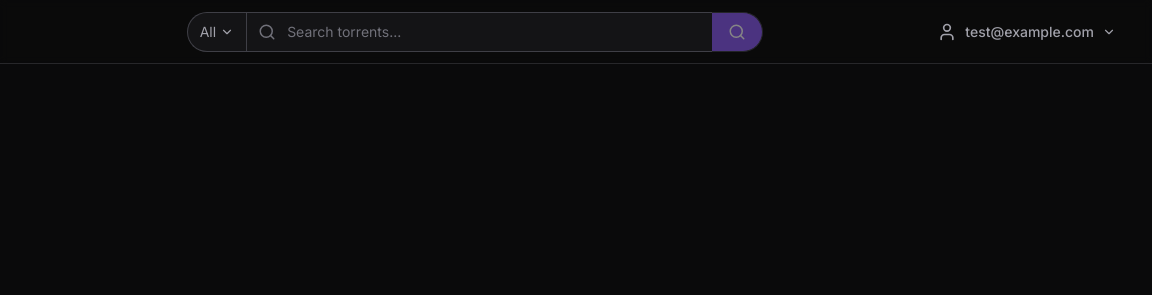
it: Header Component › Logged In State - User Dropdown › should close dropdown when clicking outside
The width and height of the screenshot is (1152, 295).
Click the button with test id "user-dropdown-trigger".
click(1027, 32)  # box [925,14,1128,50]
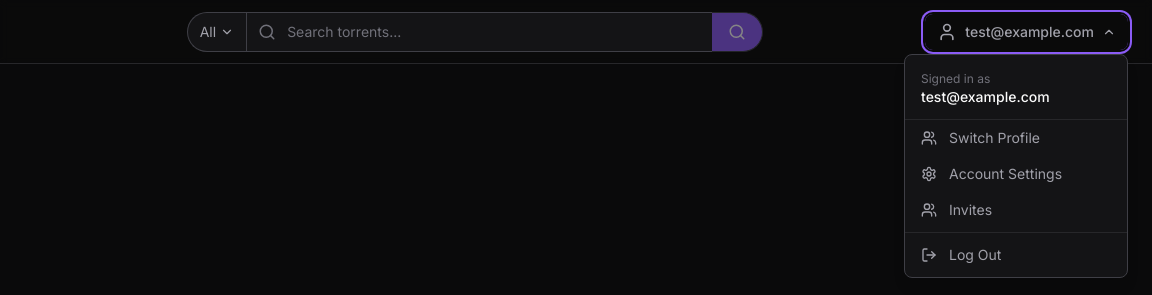
Result: the element with test id "user-dropdown-menu" is shown at [904,54,1128,278]
Click the element with test id "user-dropdown-backdrop".
click(576, 32)  # box [0,0,1151,63]
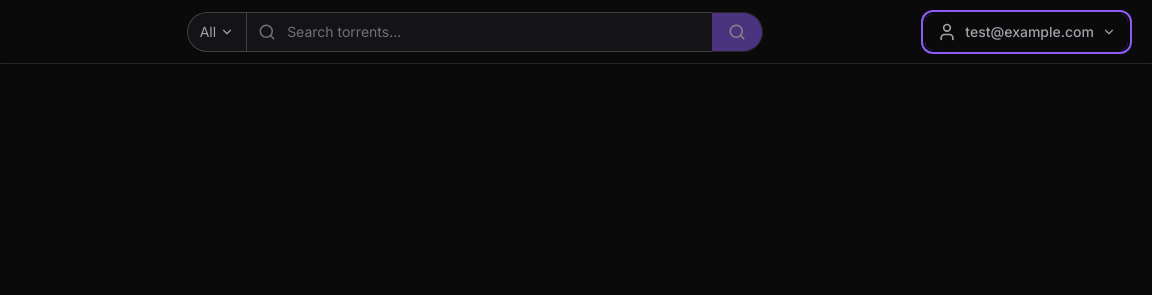
Result: the element with test id "user-dropdown-menu" is gone
